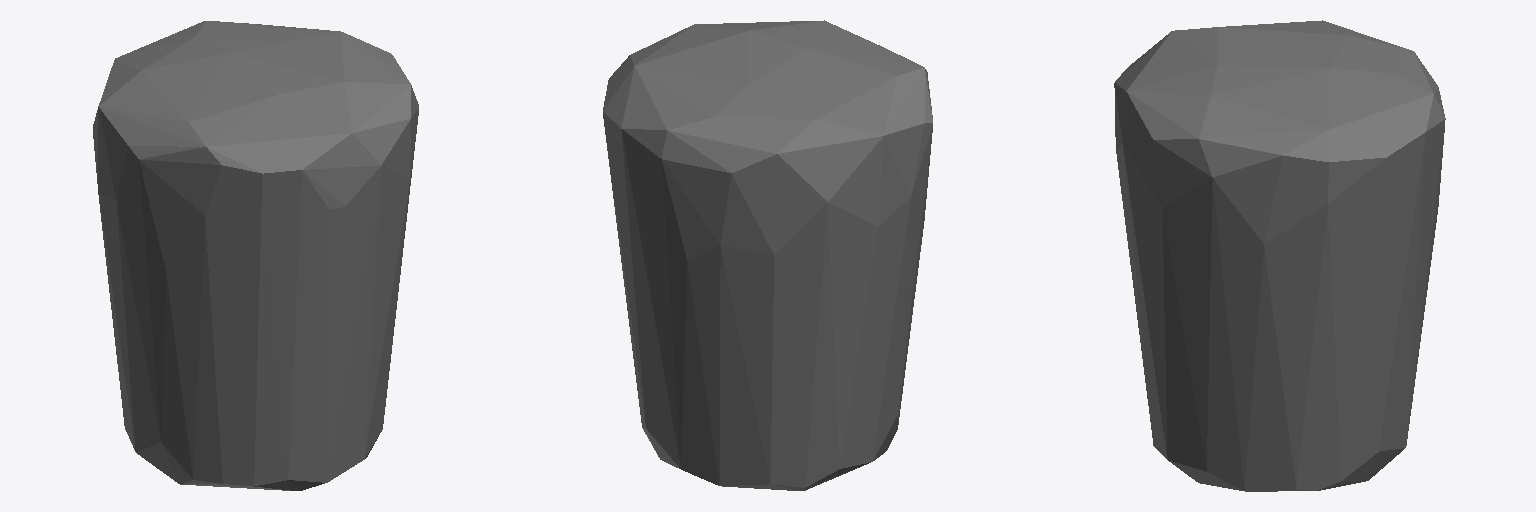
URDF robot description (trash_can_024):
<?xml version="1.0" ?>
<robot name="trash_can_024">
  <material name="color">
    <color rgba=".5 .5 .5 1"/>
  </material>

  <link name="base_link">
    <contact>
      <lateral_friction value="1.0"/>
      <rolling_friction value="0.001"/>
      <spinning_friction value="0.001"/>
      <inertia_scaling value="1.0"/>
    </contact>
    <inertial>
      <origin rpy="0 0 0" xyz="0.000454438 -0.000497576 0.0234884"/>
       <mass value="0.1"/>
       <inertia ixx="1" ixy="0" ixz="0" iyy="1" iyz="0" izz="1"/>
    </inertial>

    <visual>
      <origin rpy="0 0 0" xyz="0 0 0"/>
      <geometry>
        <mesh filename="trash_can_024_vhacd_0_of_1.obj" scale="1 1 1"/>
      </geometry>
      <material name="color"/>
    </visual>

    <collision>
      <origin rpy="0 0 0" xyz="0 0 0"/>
      <geometry>
        <mesh filename="trash_can_024_vhacd_0_of_1.obj" scale="1 1 1"/>
      </geometry>
    </collision>

  </link>
</robot>

--- Render facts (derived) ---
Views: 3 orthographic renders of the robot side by side, from view 1: azimuth 30°, elevation 25°; view 2: azimuth 150°, elevation 25°; view 3: azimuth 270°, elevation 25°.
Model trash_can_024 with 1 links and 0 joints (none), rooted at base_link, posed all joints at 0.
Links seen in each view (by area): view 1: base_link; view 2: base_link; view 3: base_link.
Boxes of the visible links, <box> form: base_link: <box>93,21,418,490</box>; base_link: <box>603,20,932,490</box>; base_link: <box>1114,20,1445,491</box>.
Bounding box of the posed robot: 0.3093 × 0.314 × 0.3982 m (x, y, z).
Meshes: 1 distinct files referenced, 1 mesh visuals loaded (1 OBJ).